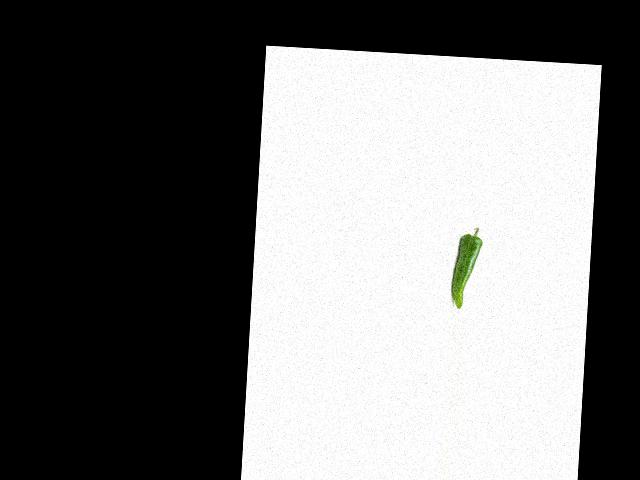bell_pepper: (448, 223, 485, 310)
